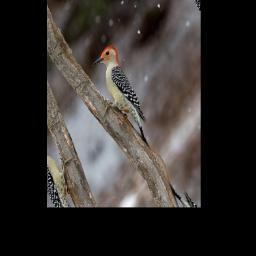Woodpecker: (81, 39, 161, 169)
